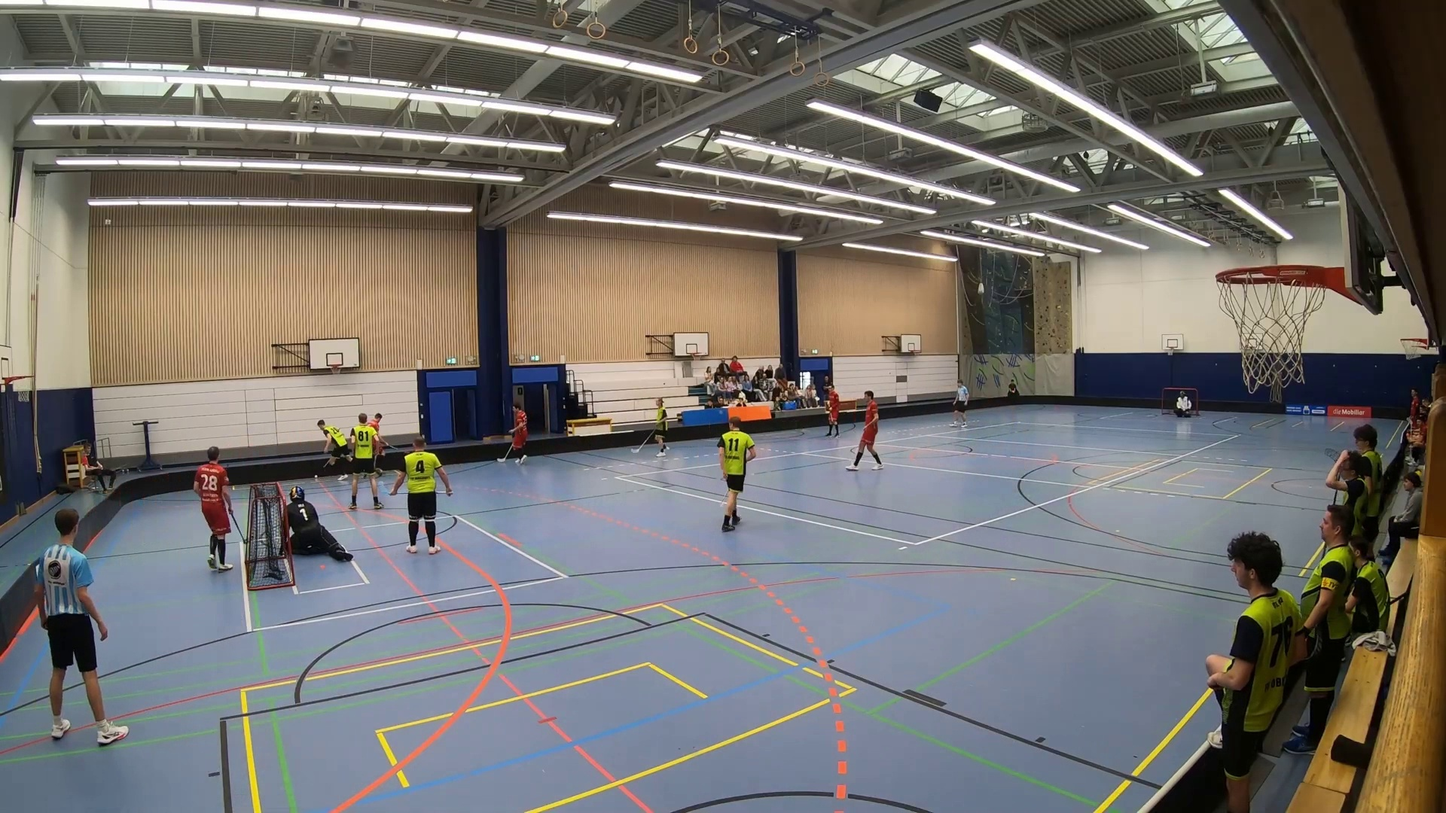Schiri: (25, 494, 130, 748), (944, 374, 981, 434)
ball: (313, 472, 318, 480)
player: (176, 435, 258, 585), (377, 427, 453, 568), (695, 407, 754, 546), (840, 392, 896, 479), (625, 388, 677, 463), (349, 407, 385, 514), (491, 400, 539, 479), (363, 412, 408, 477), (814, 367, 847, 450), (314, 417, 357, 478)
